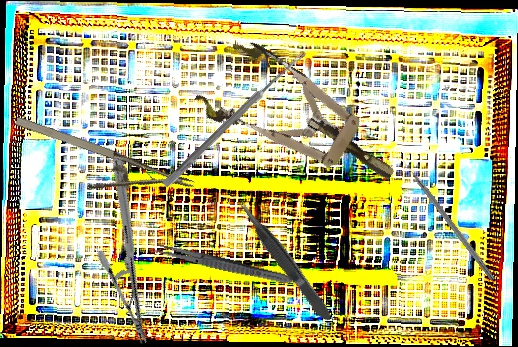Dressing Forceps: (150, 240, 294, 288)
Hook Surgical: (401, 157, 497, 282)
Needle Holder: (39, 150, 220, 345), (3, 111, 196, 224)
Speculum: (189, 30, 415, 215)
Surgical Spoon: (162, 47, 308, 190)
Tissue Forceps: (234, 197, 335, 326)
